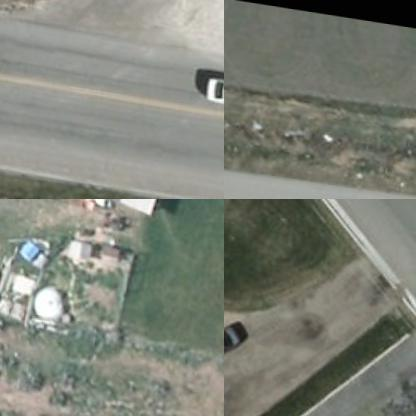car: (224, 312, 248, 376), (203, 70, 223, 105)
